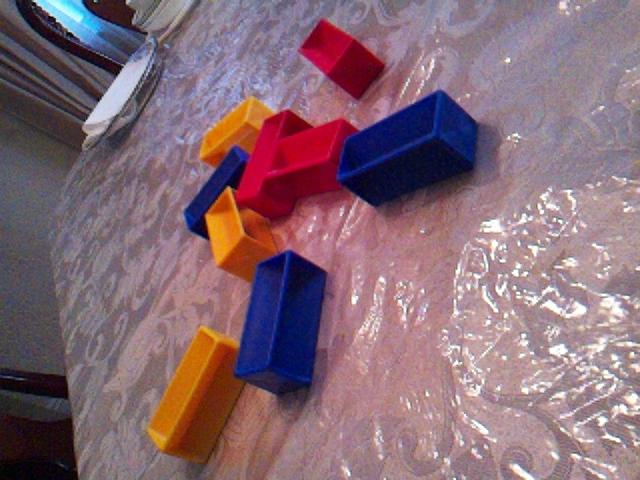blue: (336, 88, 480, 209), (232, 248, 329, 396), (183, 145, 250, 240)
red: (235, 108, 316, 220), (264, 119, 361, 201), (297, 17, 387, 100)
yellow: (146, 325, 247, 465), (203, 186, 280, 283), (198, 95, 276, 168)
